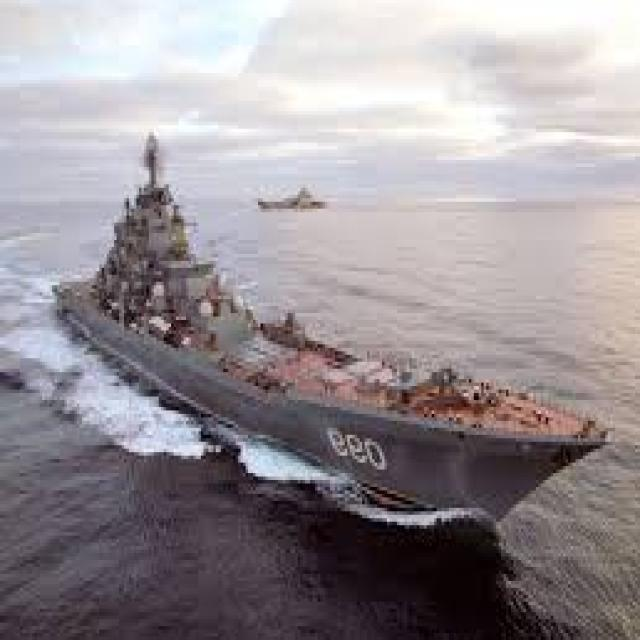island: (251, 168, 341, 224)
navalvessels: (29, 132, 620, 564)
